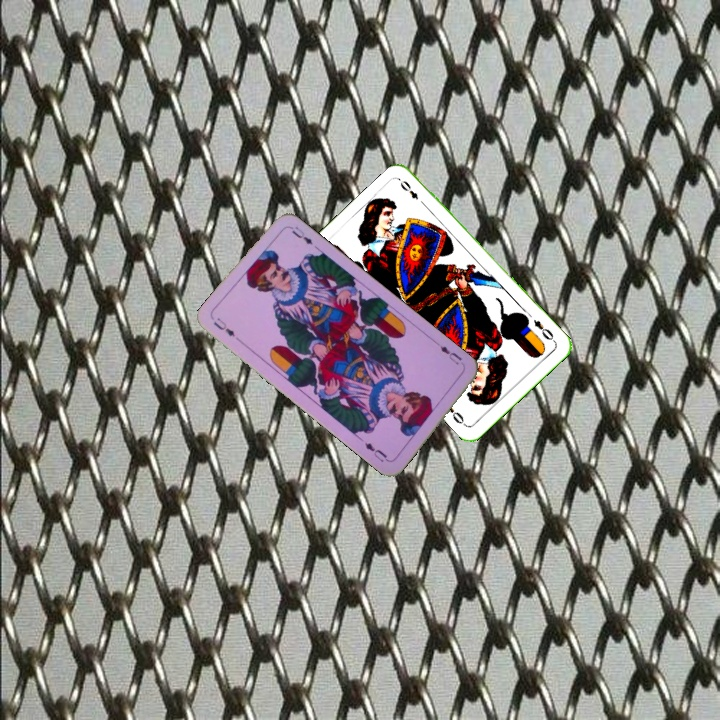EO: (529, 315, 558, 345)
EU: (436, 342, 467, 369), (209, 313, 238, 340)
